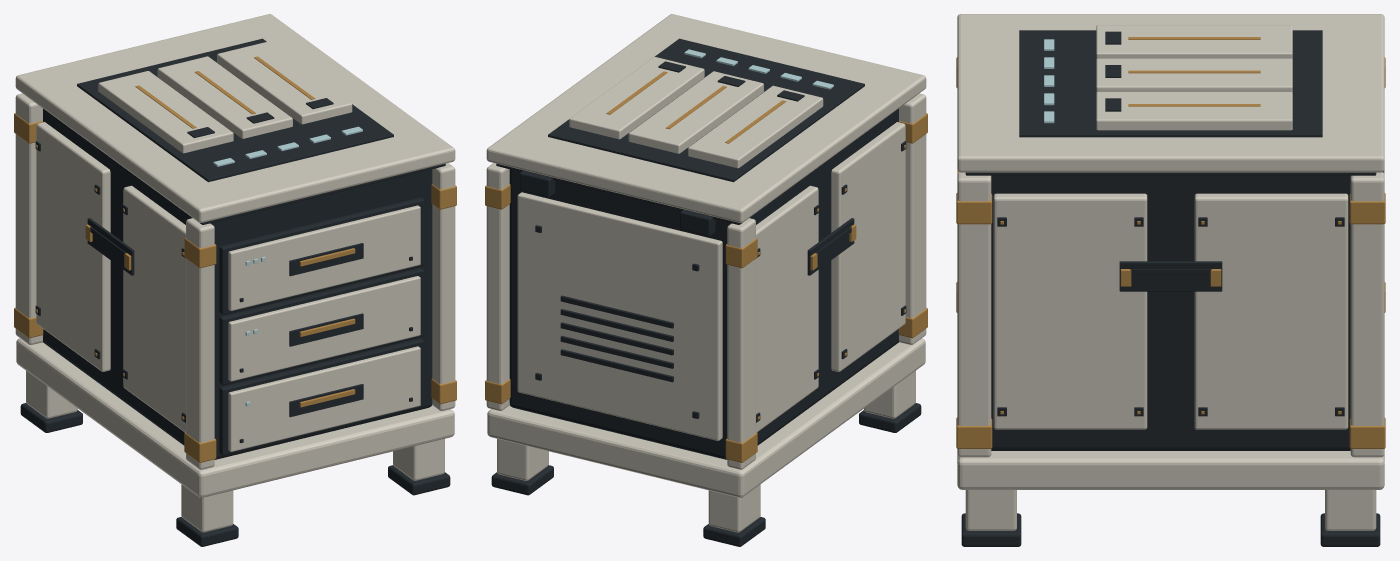
Rendered from SM_Aurelion_KIT_MedicalAidCache.fbx.
The picture shows the model from 3 angles, left to right: view 1: azimuth 30°, elevation 25°; view 2: azimuth 150°, elevation 25°; view 3: azimuth 270°, elevation 25°; orthographic projection. The views are drawn at different scales.
Visible parts, largest first — view 1: SM_Aurelion_KIT_MedicalAidCache; view 2: SM_Aurelion_KIT_MedicalAidCache; view 3: SM_Aurelion_KIT_MedicalAidCache.
Boxes of the visible parts, x1,y1,x2,y2 form: SM_Aurelion_KIT_MedicalAidCache: (14, 14, 456, 546); SM_Aurelion_KIT_MedicalAidCache: (485, 14, 927, 546); SM_Aurelion_KIT_MedicalAidCache: (956, 14, 1385, 546).
Bounding box in the file's own units: 80.5 × 100 × 105.
